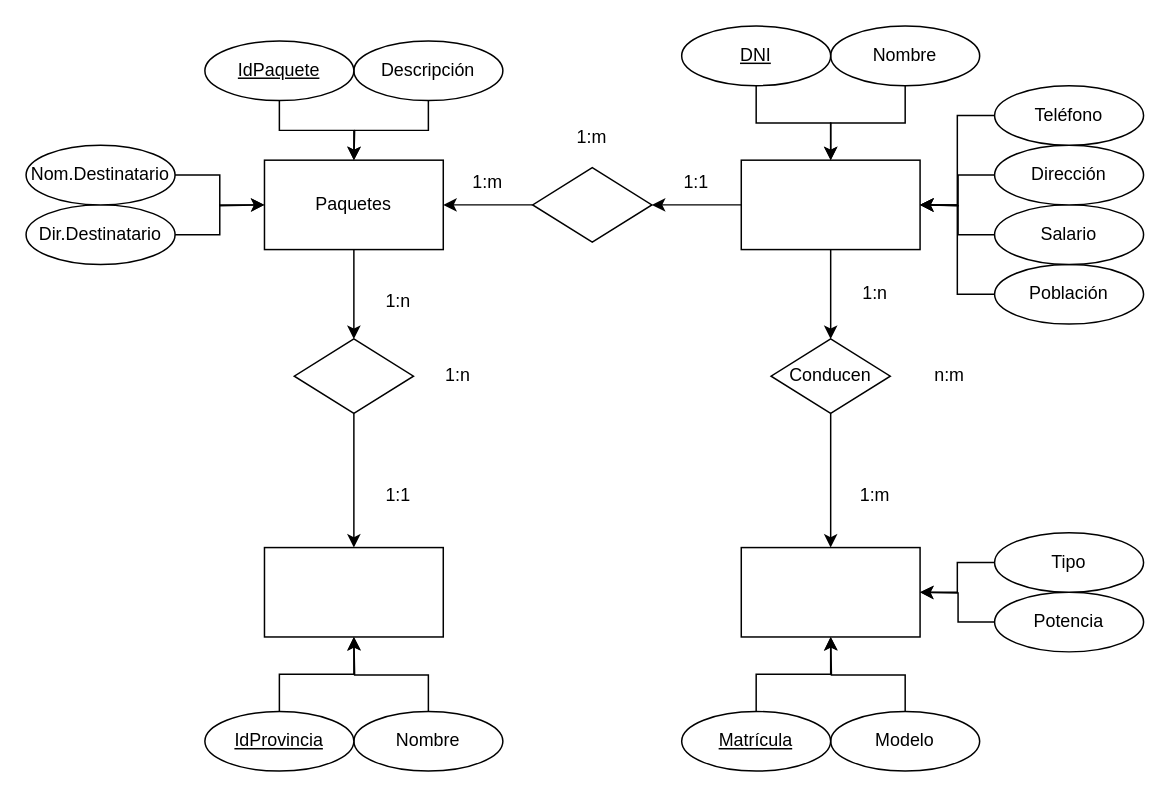
Image size: 1170x797. Some labels were removed from this diagram. The centre of each missing label's shape, as x and y in pixels:
Camioneros: [830,204]
Camiones: [830,591]
Llegan: [353,375]
Provincias: [353,591]
Reparten: [591,204]
